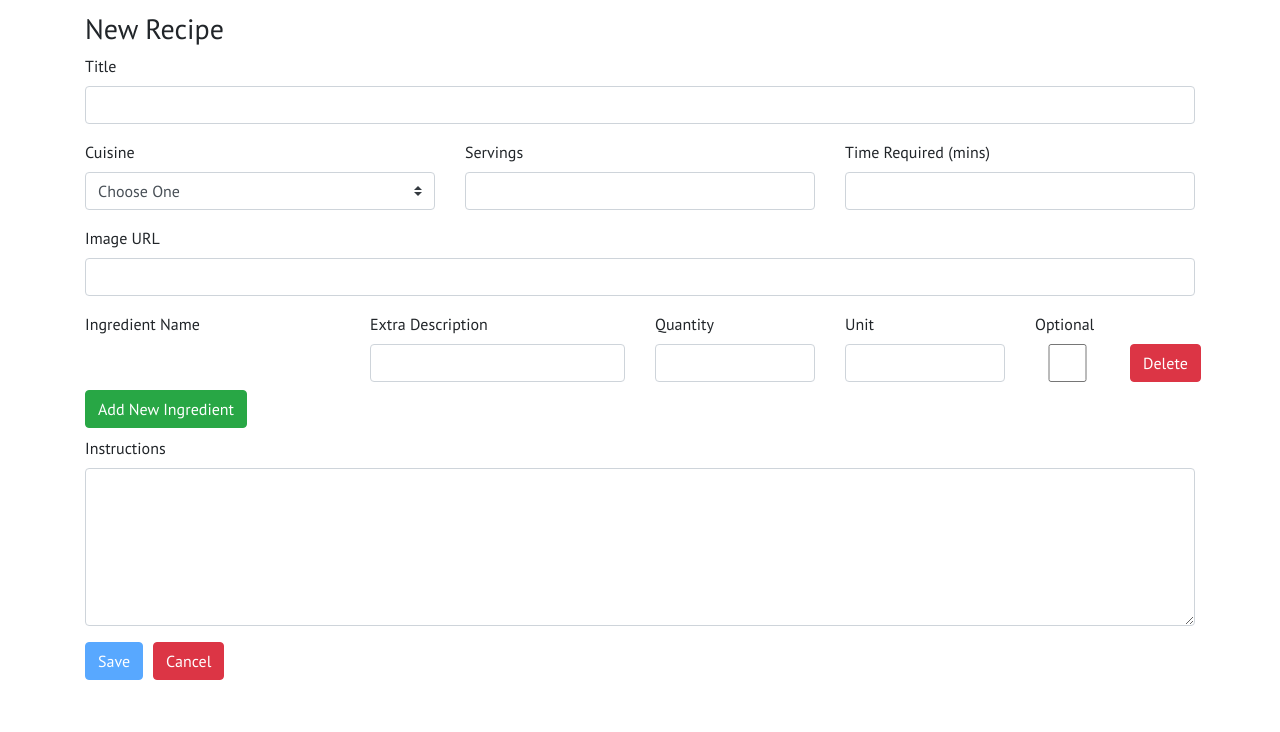
Test case: Recipe Form › error message appears if text input is invalid
Note: enter invalid input into text field
Type "a" into the field labelled "Title" at {"x": 640, "y": 105}, box [85, 86, 1195, 124]
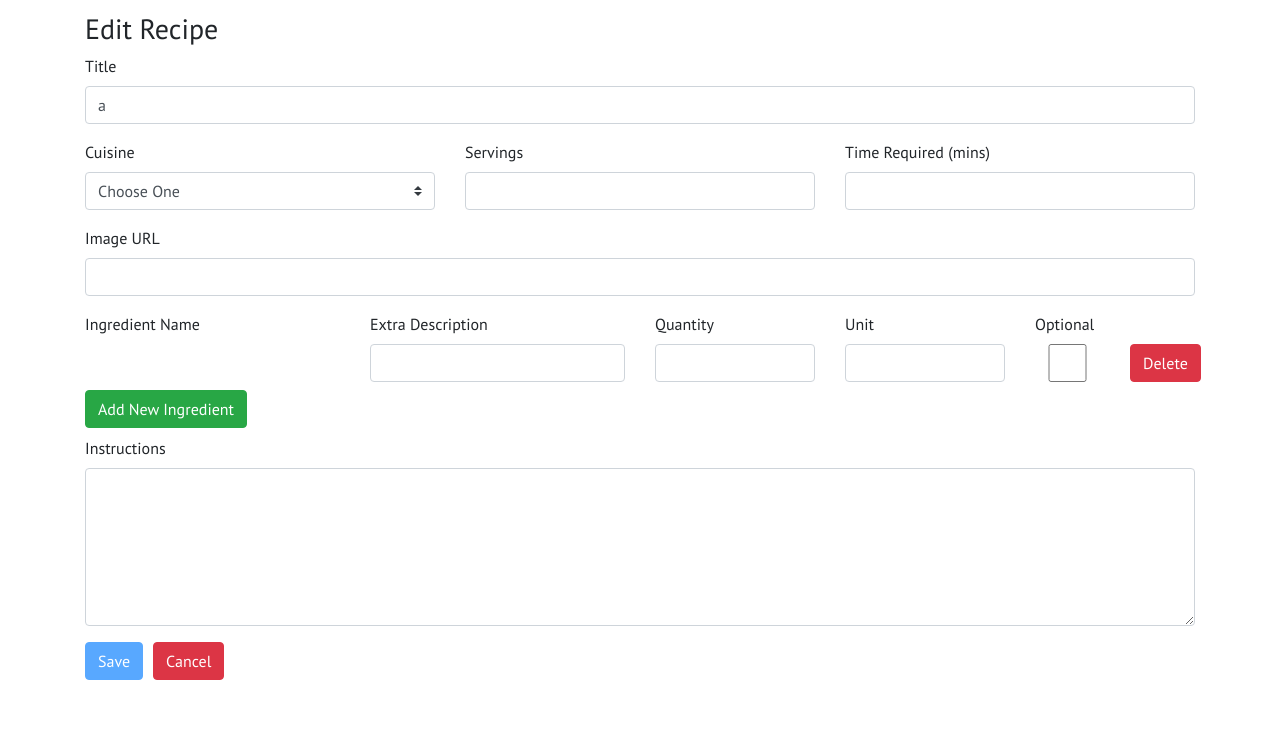
Clear the field labelled "Title" at {"x": 640, "y": 105}, box [85, 86, 1195, 124]
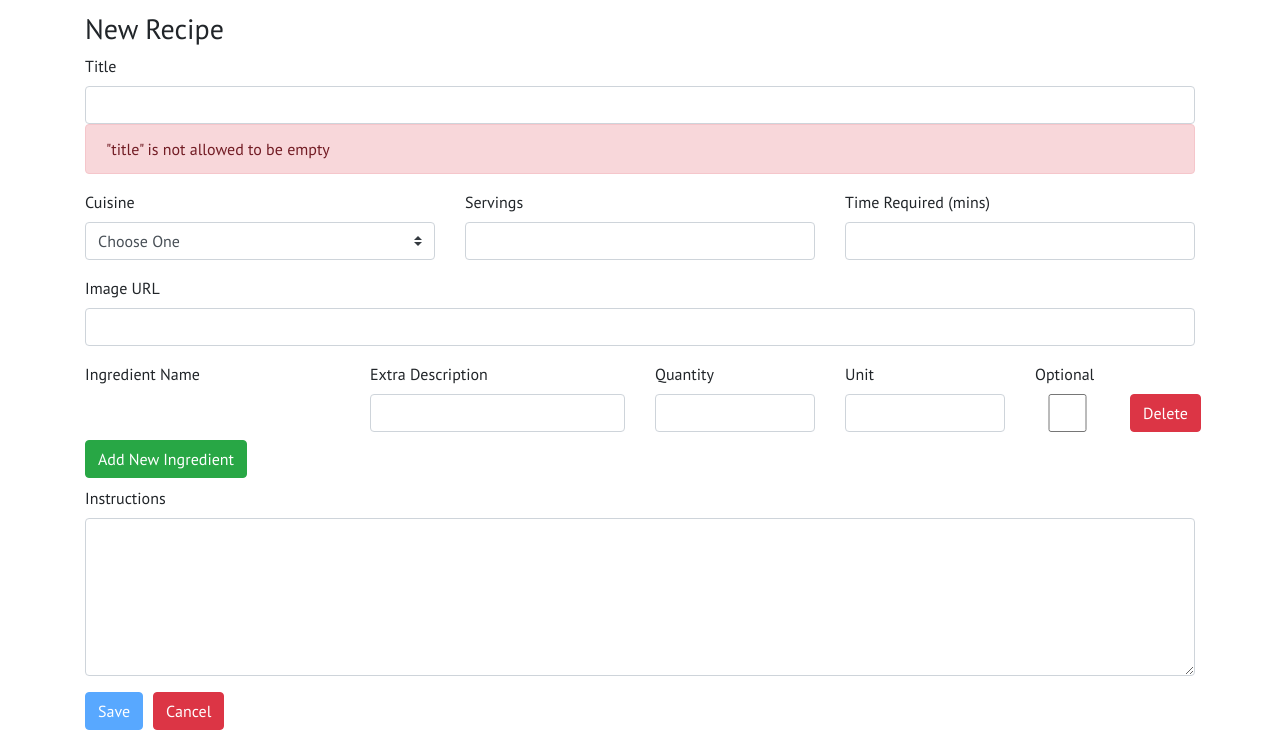
Now the text "\"title\" is not allowed to be empty" is shown, box [85, 124, 1195, 174]
Note: enter valid input into text field
Type "Chicken Burger" into the field labelled "Title" at {"x": 640, "y": 105}, box [85, 86, 1195, 124]
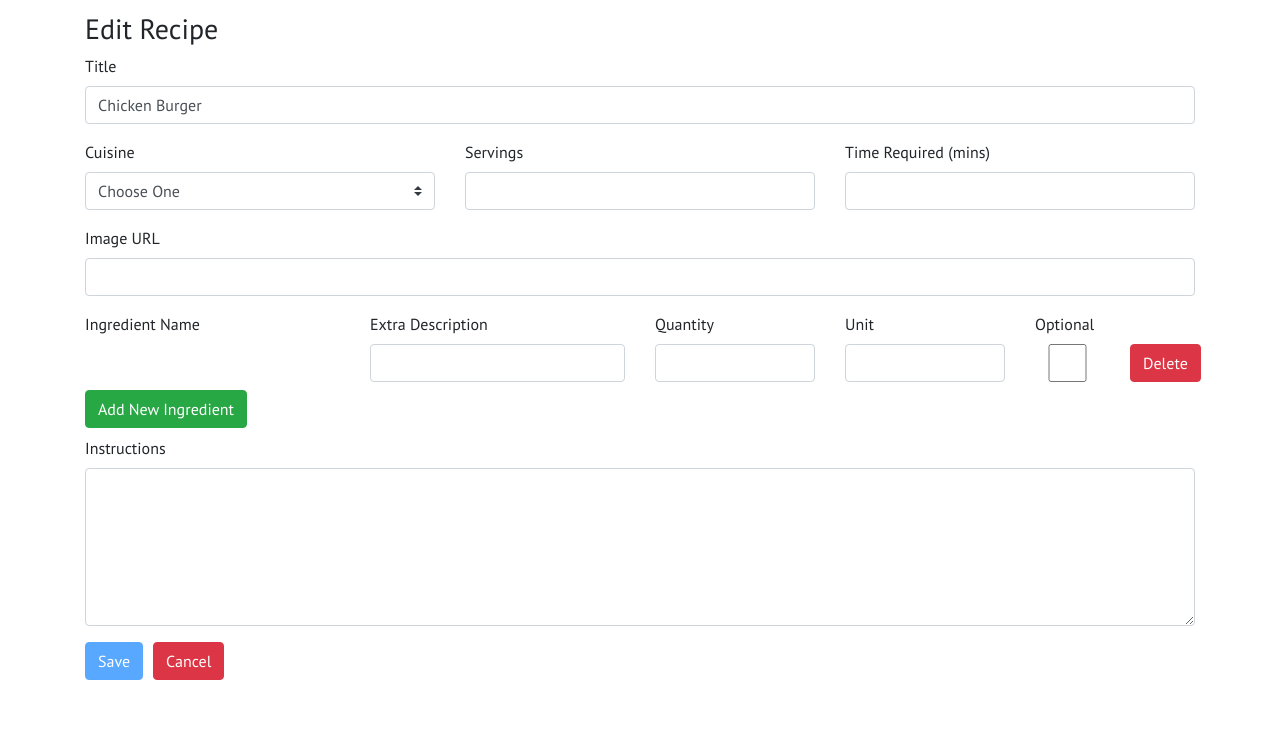
Now the text "is not allowed to be empty" is gone
